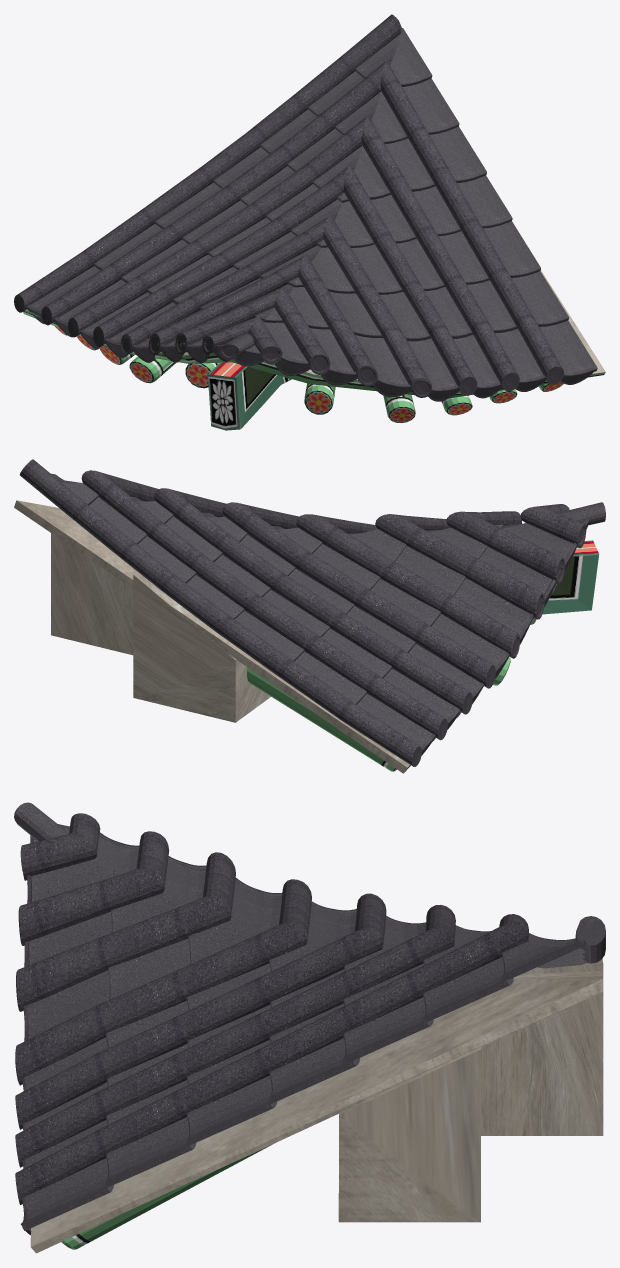
File: SM_R_RoofCorner_8.fbx
3 renders of one model, top to bottom at view 1: azimuth 30°, elevation 25°; view 2: azimuth 150°, elevation 25°; view 3: azimuth 270°, elevation 25°, orthographic. The views are drawn at different scales.
Parts seen in each view (by area): view 1: SM_R_RoofCorner_8; view 2: SM_R_RoofCorner_8; view 3: SM_R_RoofCorner_8.
Boxes of the visible parts, x1,y1,x2,y2 form: SM_R_RoofCorner_8: (14, 14, 605, 430); SM_R_RoofCorner_8: (14, 459, 605, 773); SM_R_RoofCorner_8: (14, 802, 605, 1253).
Size of the model in its own units: 297 by 267 by 173.
4 materials, 4 textured.
